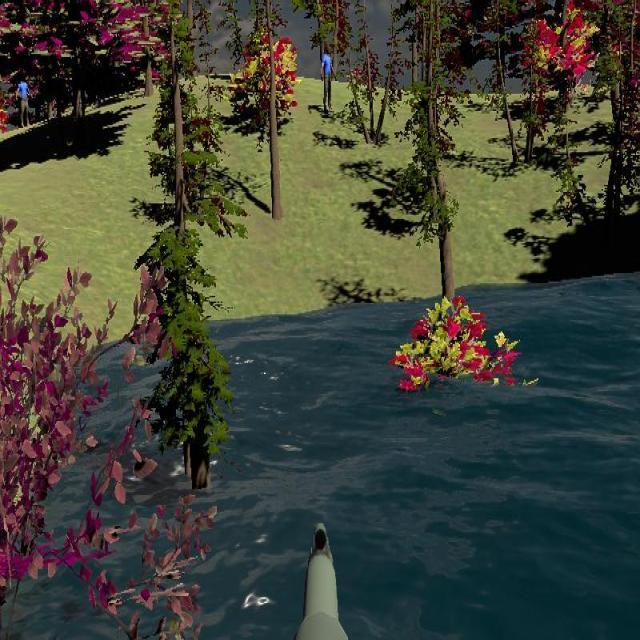Human: (321, 43, 336, 116), (15, 72, 33, 129)
